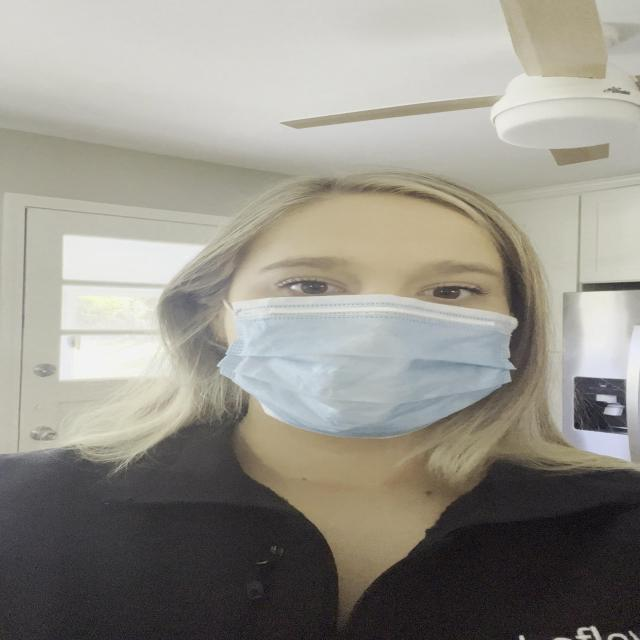no-helmet: (172, 186, 543, 453)
